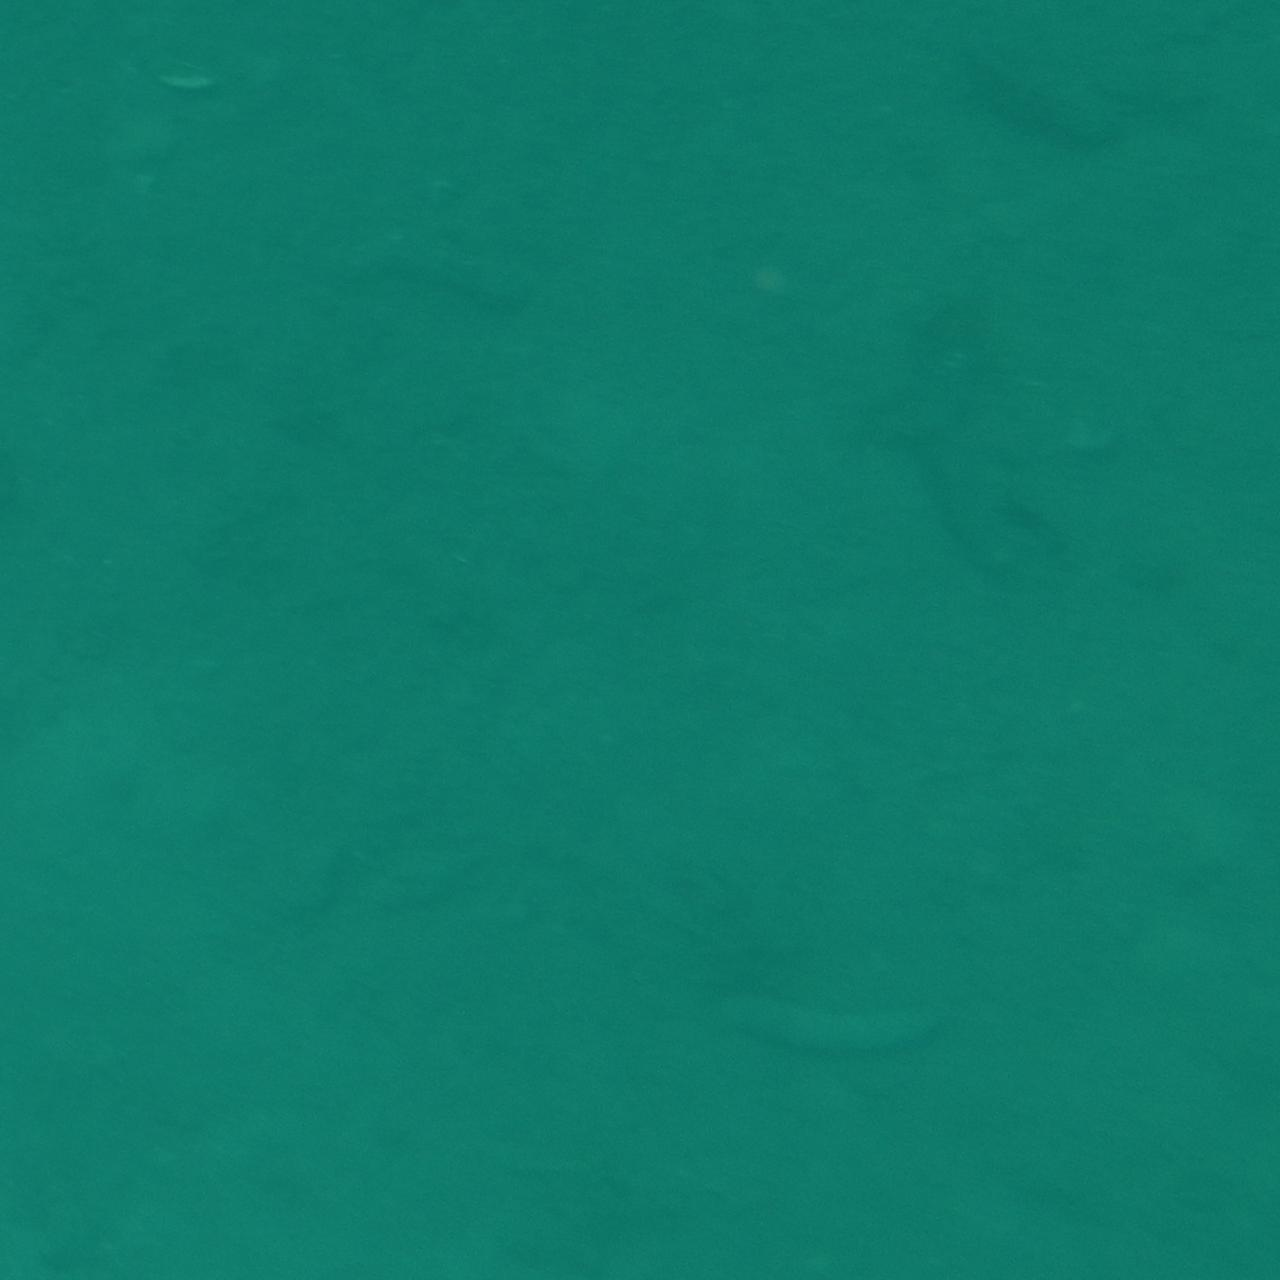Holothuria tubulosa: (707, 961, 1009, 1077), (288, 200, 558, 322)
